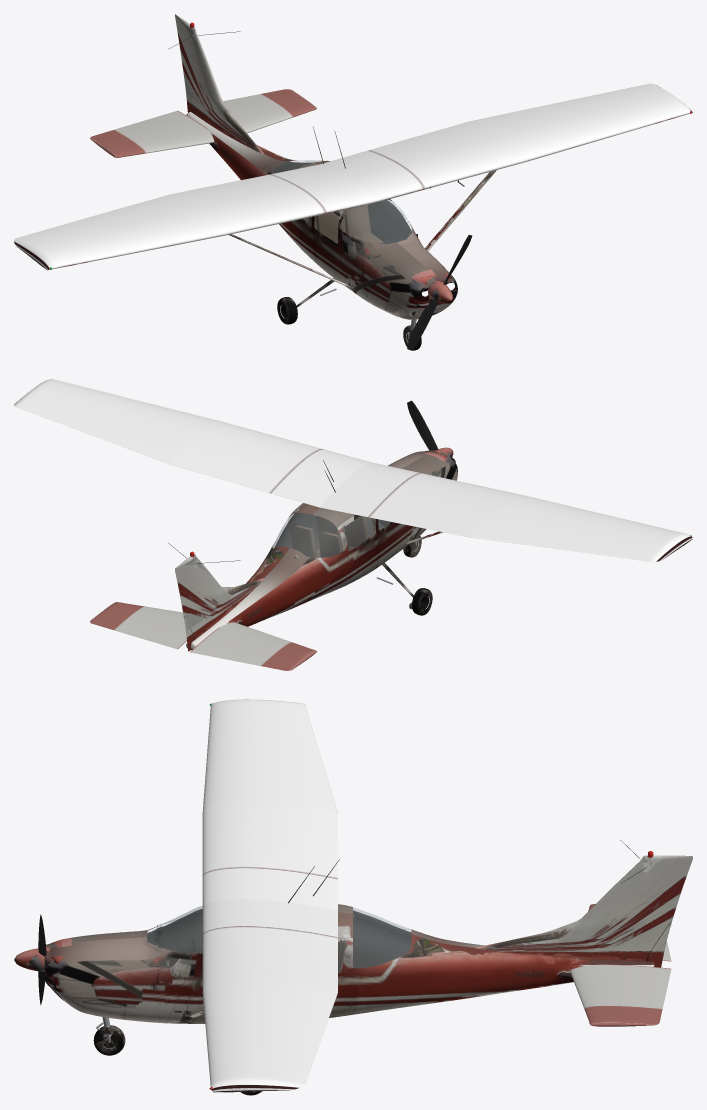
3 renders of one model, top to bottom at view 1: azimuth 30°, elevation 25°; view 2: azimuth 150°, elevation 25°; view 3: azimuth 270°, elevation 25°, orthographic. The views are drawn at different scales.
Visible parts, largest first — view 1: wing_L, wing_R, fuselage, fin, stab_R, fuselage_glass, stab_L, cabin_shell, seat0_back, prop_blade1, seat1_back, strut_L; view 2: wing_L, wing_R, fuselage, fin, stab_R, fuselage_glass, stab_L, cabin_shell, seat2_back, seat1_back, seat3_back, prop_blade0; view 3: wing_R, fuselage, wing_L, fin, stab_L, fuselage_glass, cabin_shell, nose_wheel_tire.
Part boxes in pixels (box(x1,y1,x2,y2)): wing_L: box(320, 83, 692, 203); wing_R: box(14, 164, 374, 270); fuselage: box(186, 112, 457, 319); fin: box(175, 14, 263, 153); stab_R: box(90, 110, 214, 157); fuselage_glass: box(272, 160, 411, 243); stab_L: box(223, 89, 316, 133); cabin_shell: box(272, 161, 411, 241); seat0_back: box(344, 205, 370, 236); prop_blade1: box(407, 298, 438, 350); seat1_back: box(316, 212, 341, 241); strut_L: box(425, 170, 496, 250); wing_L: box(14, 379, 371, 507); wing_R: box(319, 462, 692, 561); fuselage: box(186, 450, 457, 649); fin: box(175, 554, 263, 651); stab_R: box(190, 622, 317, 670); fuselage_glass: box(272, 513, 390, 557); stab_L: box(90, 602, 186, 649); cabin_shell: box(274, 512, 390, 549); seat2_back: box(290, 523, 317, 557); seat1_back: box(344, 516, 369, 547); seat3_back: box(318, 530, 342, 557); prop_blade0: box(407, 400, 438, 450); wing_R: box(202, 699, 337, 910); fuselage: box(45, 904, 654, 1023); wing_L: box(202, 899, 337, 1092); fin: box(475, 855, 692, 967); stab_L: box(570, 964, 671, 1026); fuselage_glass: box(147, 906, 410, 973); cabin_shell: box(147, 909, 411, 968); nose_wheel_tire: box(93, 1025, 125, 1055).
Size of the model in its own units: 11.02 by 2.7 by 8.17.
18 materials, 2 textured.
